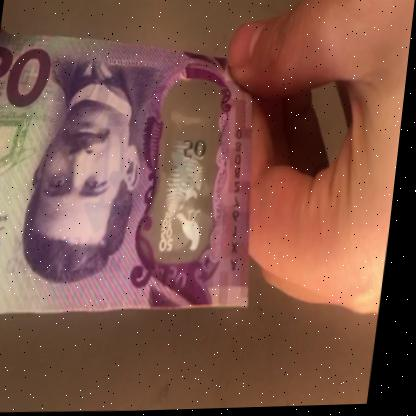50F: (153, 91, 224, 265)
